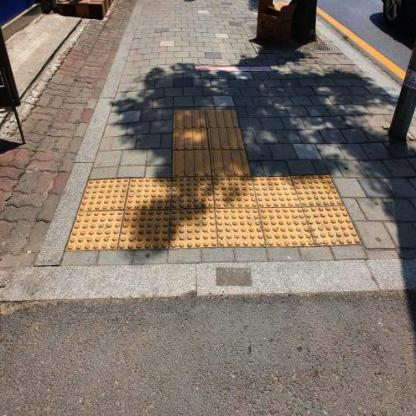podotacti: (73, 173, 343, 250), (172, 109, 249, 178)
